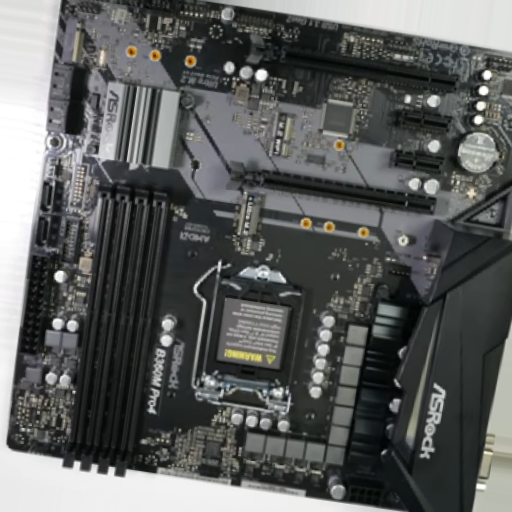CPU: (194, 263, 306, 415)
GPU: (247, 33, 458, 91), (228, 160, 437, 212)
MOTHERBOARD: (10, 1, 511, 504)
RAM: (60, 181, 172, 479)
SSD: (239, 191, 265, 237), (268, 111, 292, 155), (65, 18, 82, 63)
